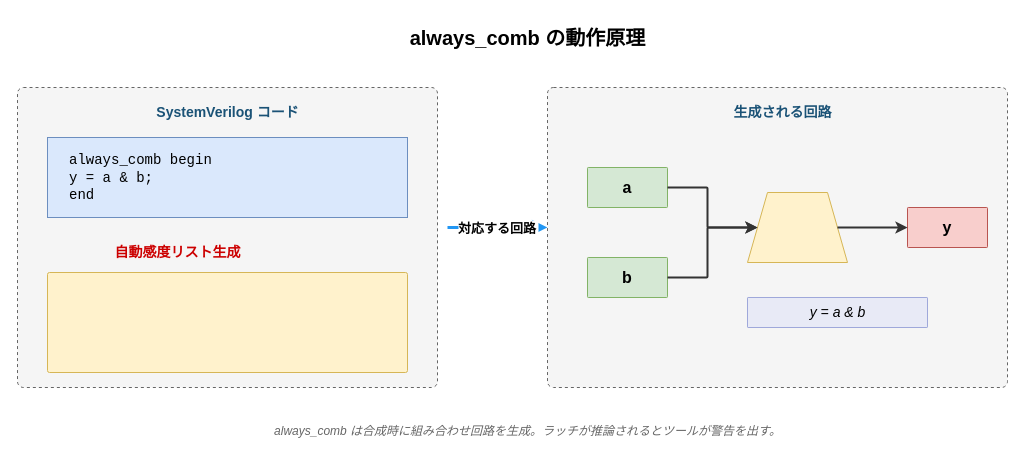
Some shapes in this 1025 by 464 pixel diagram are drawn without their labels. Here are the shapes that lost their labels. From the top down, the box of each, then its label:
(746, 192, 848, 262): AND
(46, 272, 408, 372): always_comb は右辺の信号 (a, b) を自動的に感度リストに追加 a または b が変化すると 自動的にブロックが再評価される
